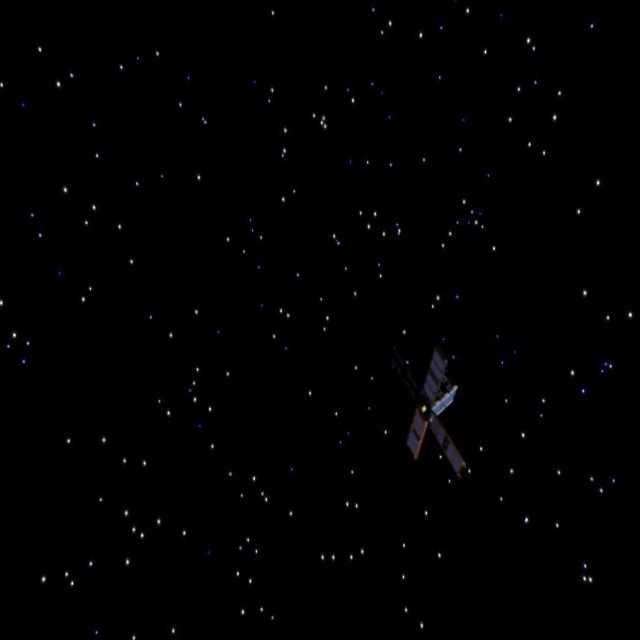medium_debris: (378, 333, 488, 482)
